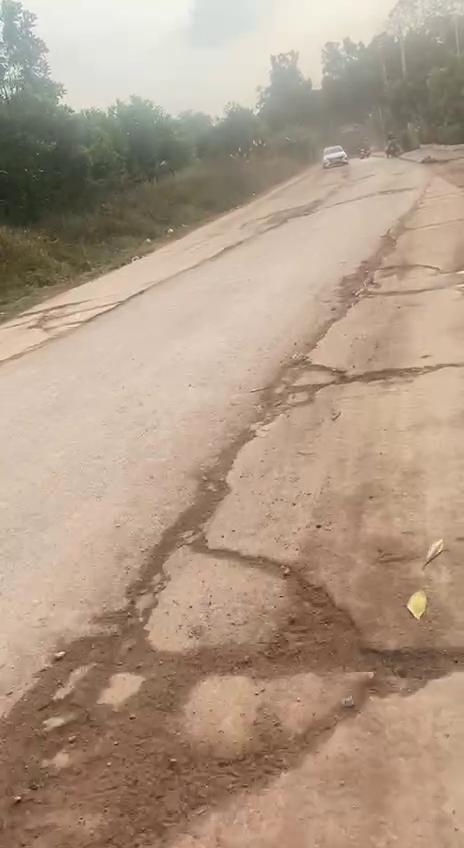pothole: (226, 558, 464, 709)
